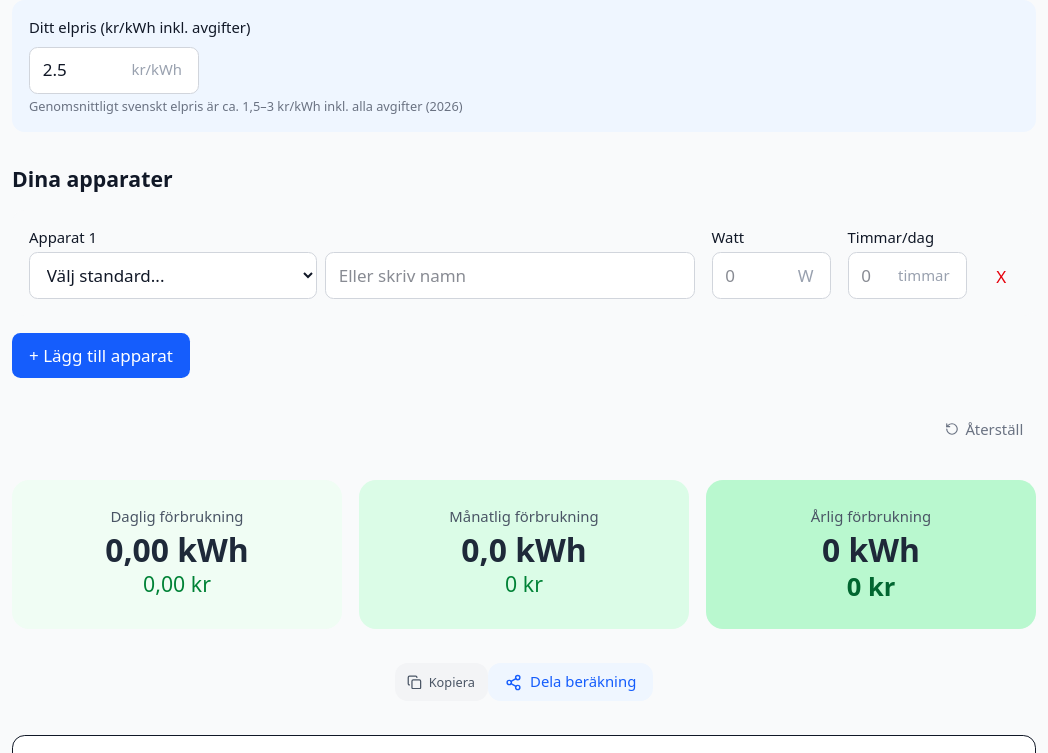
Elberegner — apparatnavne pr. domæne › valg af en standardenhed sætter det oversatte navn i feltet (se)
The image size is (1048, 753).
Select "Kylskåp (40W)" in the dropdown named "Apparat 1 — Välj standard..." at [173, 276], box [29, 252, 316, 299]
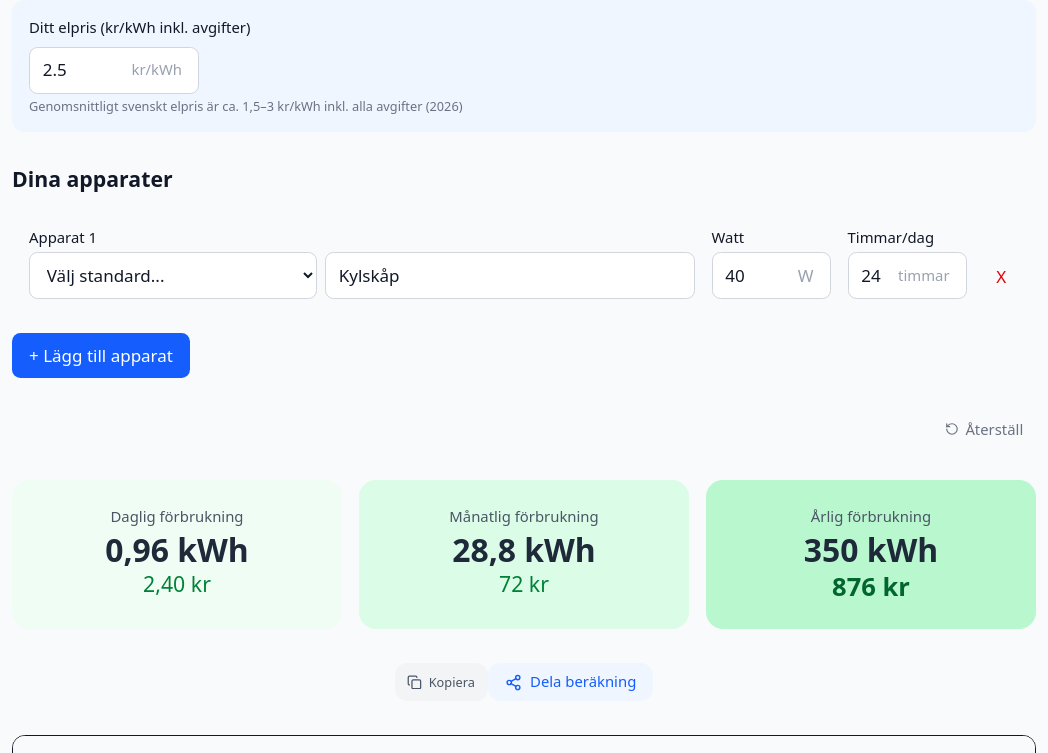
Check: the field named "Apparat 1 — Eller skriv namn" holds "Kylskåp", box [325, 252, 694, 299]
